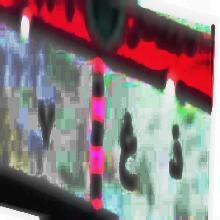7: (36, 95, 58, 151)
ghayn: (118, 109, 139, 194)
zaal: (165, 121, 185, 185)
